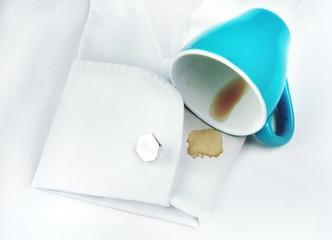gun: (185, 128, 226, 161)
